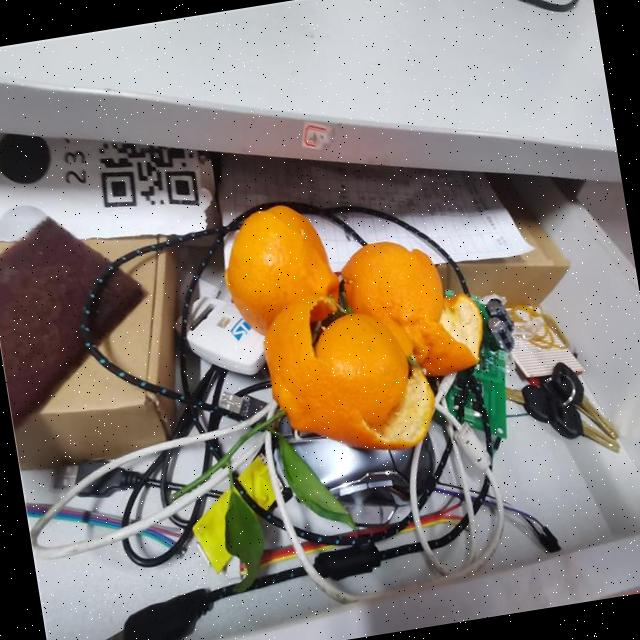orange-peel: (214, 174, 500, 473), (256, 276, 440, 467)
